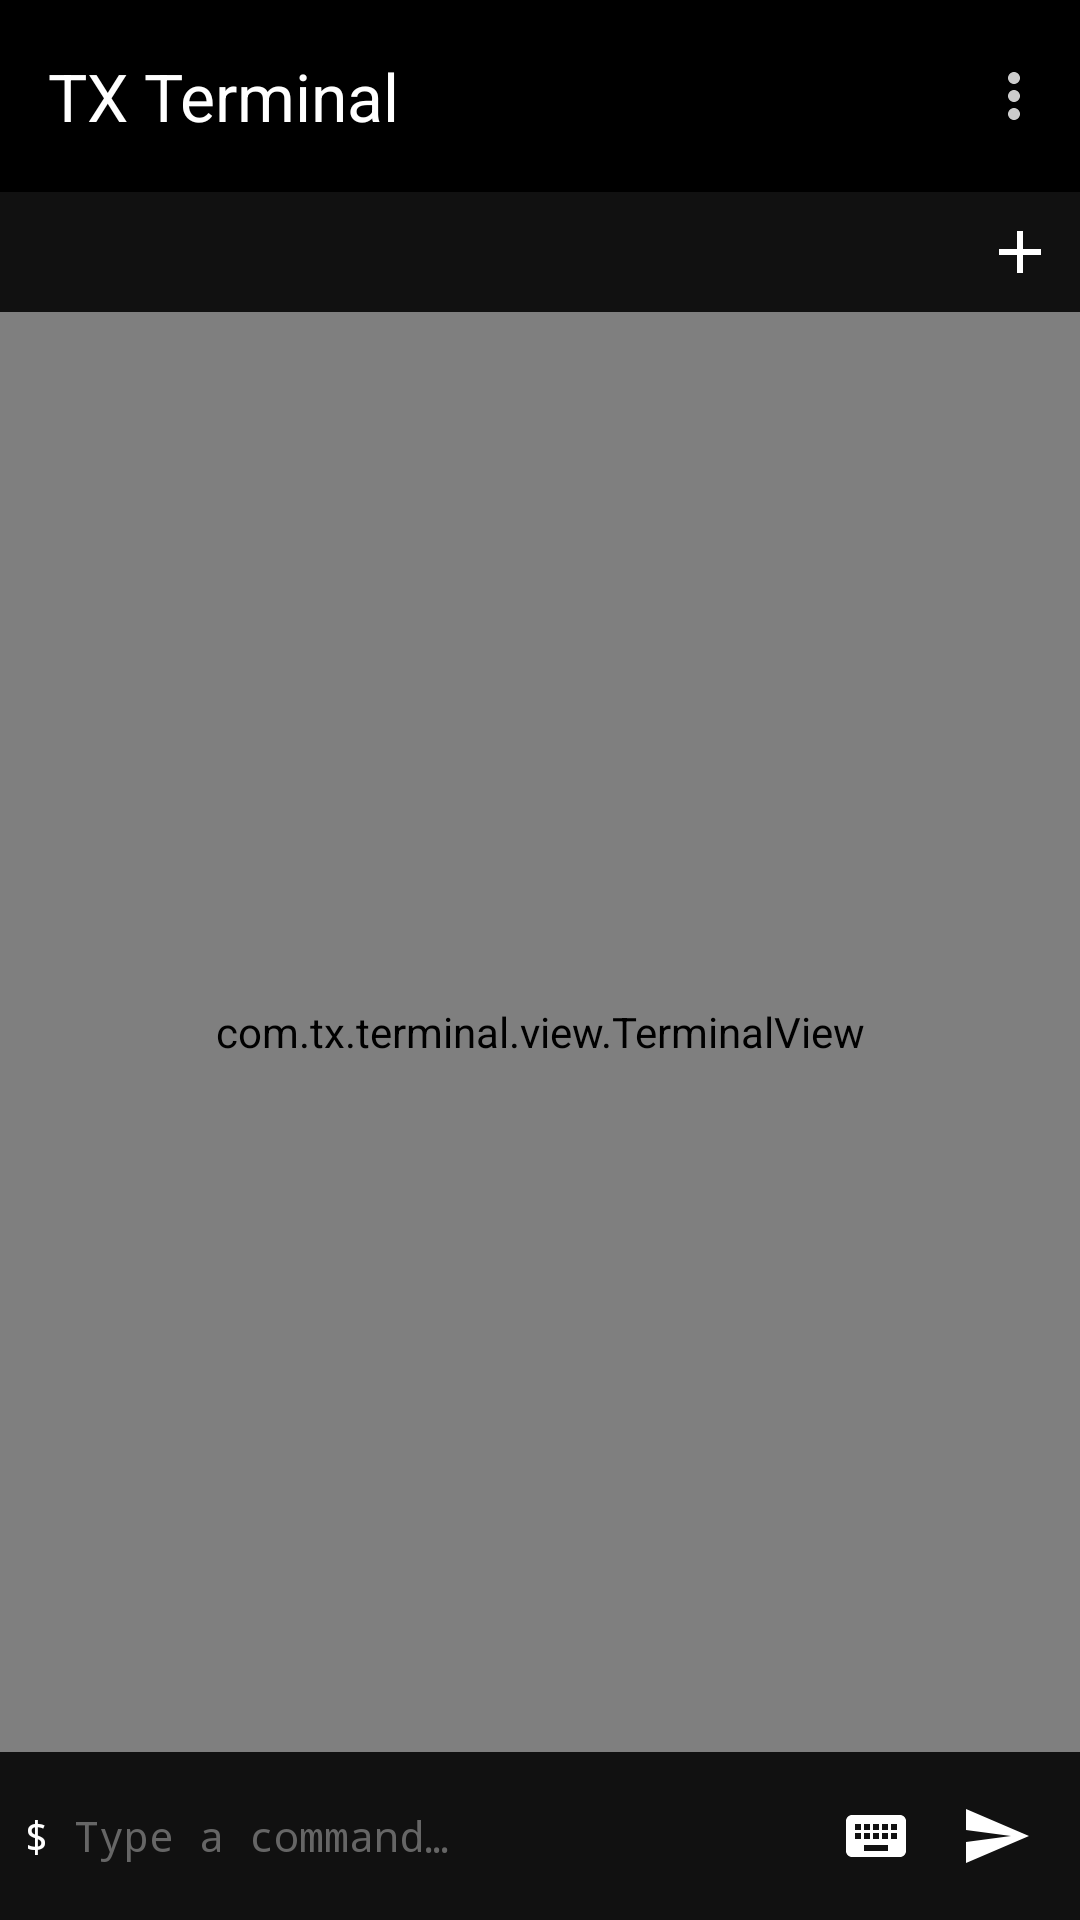

Screen size 1080 x 1920. Icon name, then its box in pixels as (x1,y1,x2,y2):
Execute: (966,1809,1029,1863)
New Session: (999,231,1041,273)
Toggle Virtual Keys: (846,1815,906,1857)
